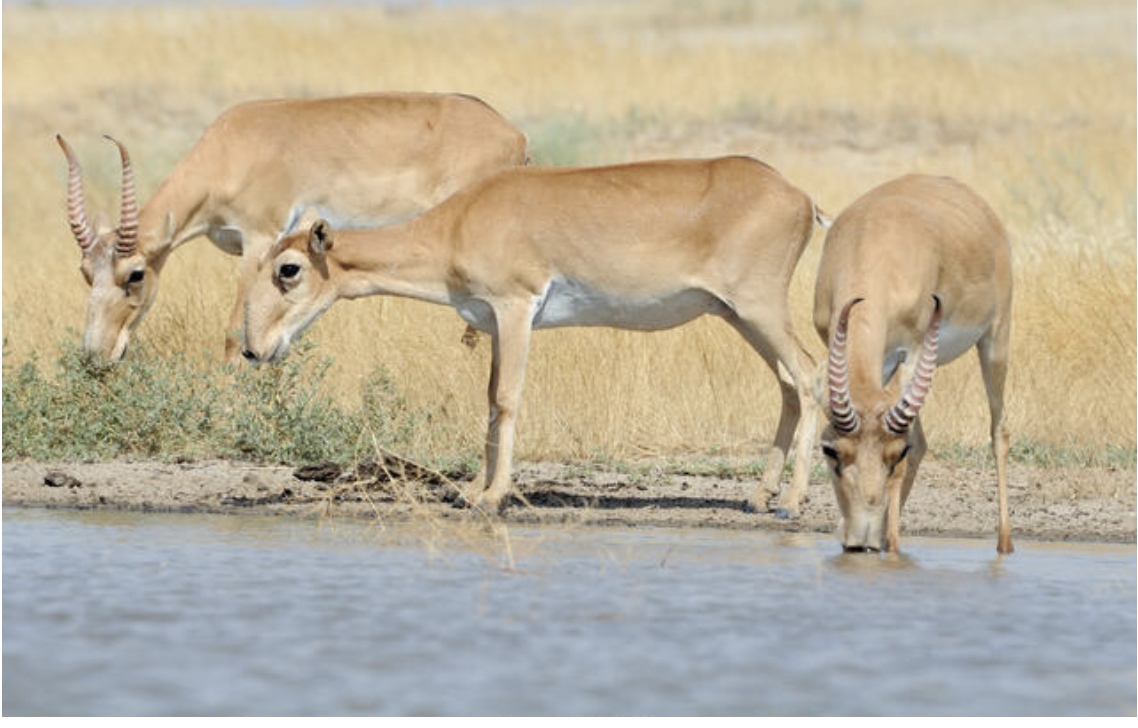saiga: (230, 154, 816, 521), (35, 107, 559, 348), (816, 176, 1037, 548)
